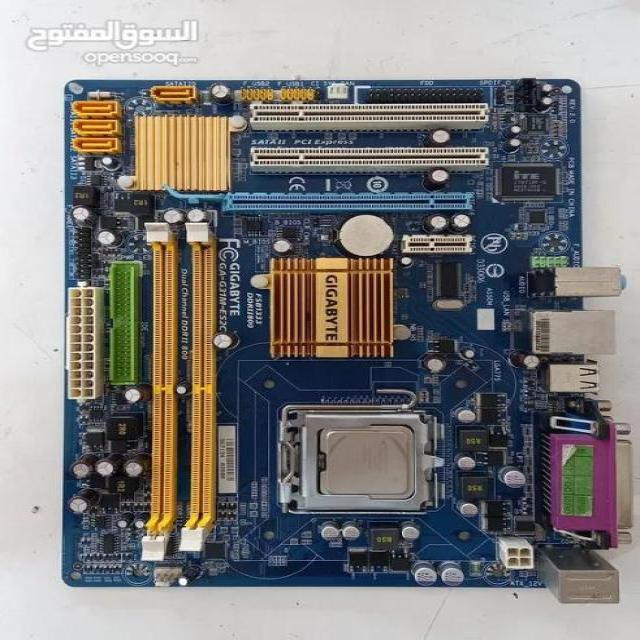CPU: (320, 426, 414, 500)
